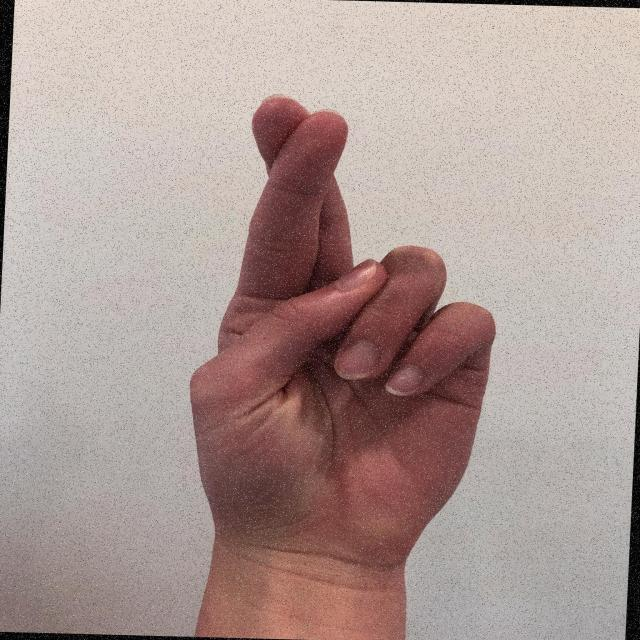R: (176, 87, 512, 571)
